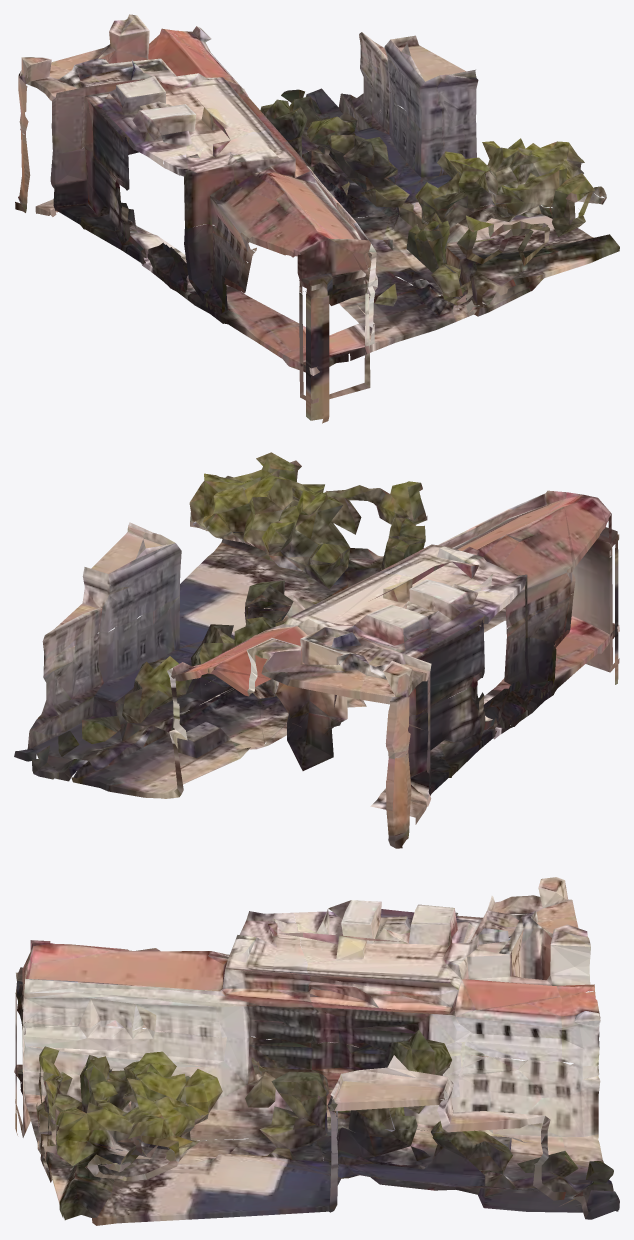
3 views of the same model, one above another, from view 1: azimuth 30°, elevation 25°; view 2: azimuth 150°, elevation 25°; view 3: azimuth 270°, elevation 25° (orthographic). The views are drawn at different scales.
Parts seen in each view (by area): view 1: Mesh_0; view 2: Mesh_0; view 3: Mesh_0.
Boxes of the visible parts, x1,y1,x2,y2 form: Mesh_0: (15,14,619,423); Mesh_0: (14,452,619,848); Mesh_0: (14,877,619,1225).
Bounding box in the file's own units: 66.83 × 34.86 × 82.66.
1 material, 1 textured.
